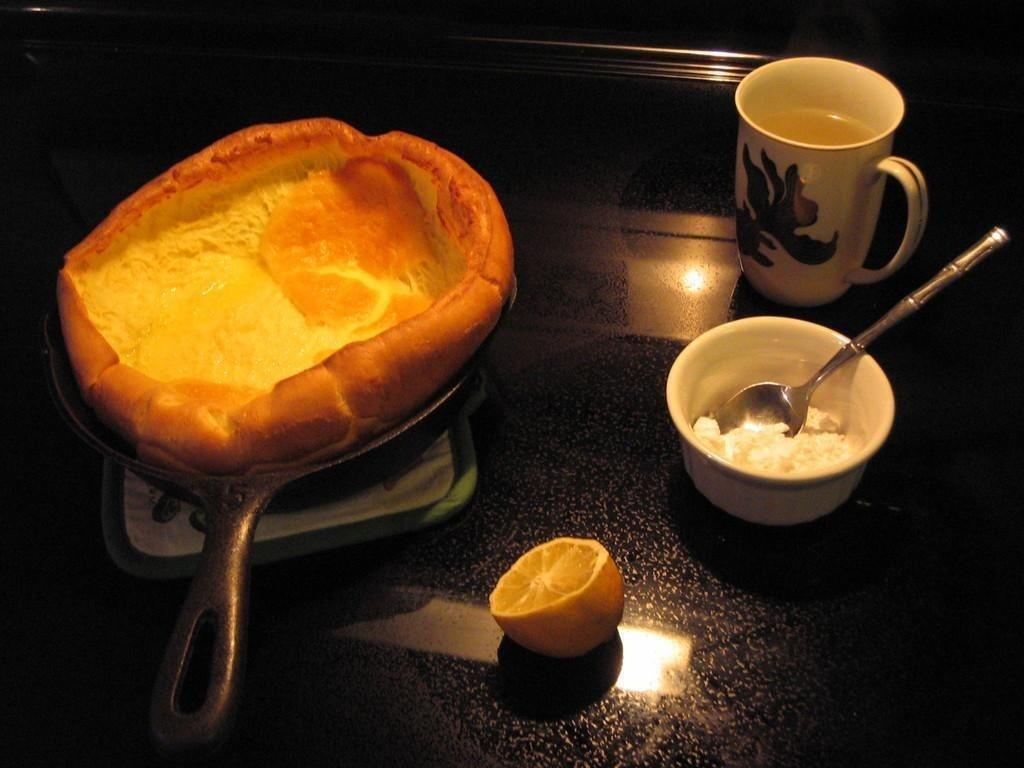cup-handle: (733, 55, 930, 312)
